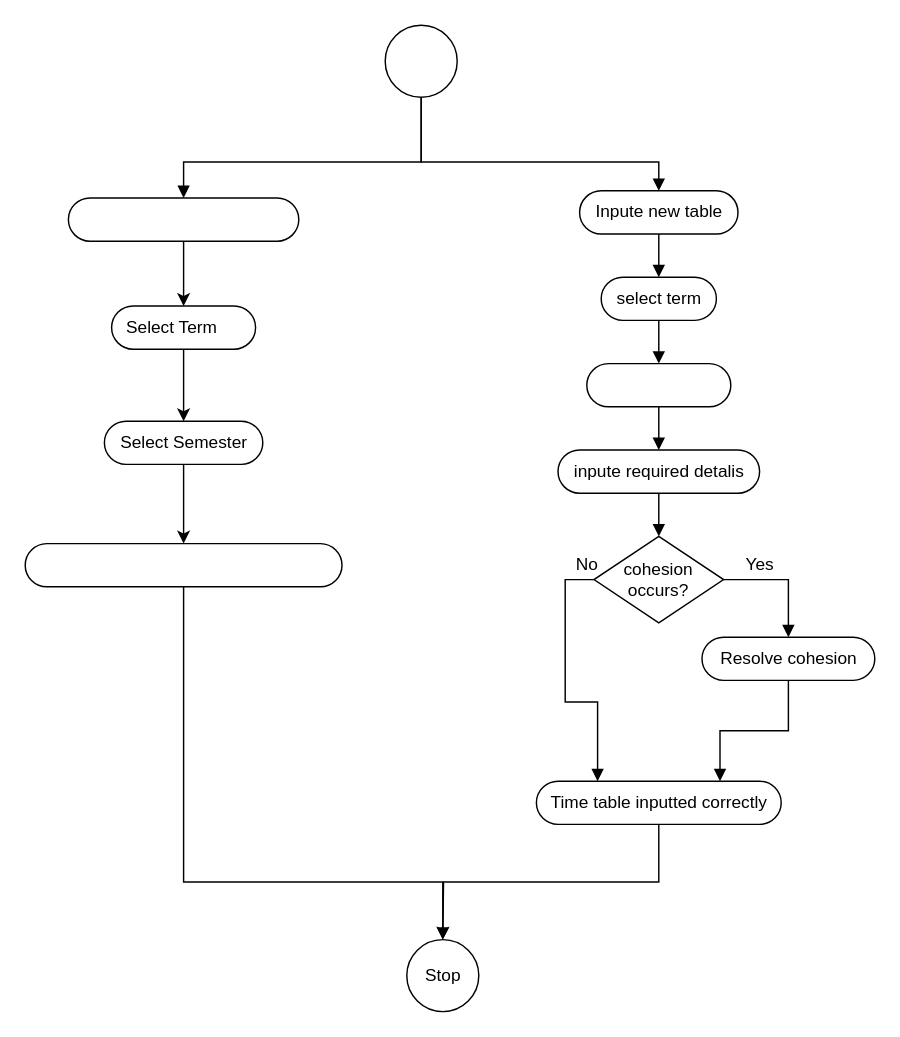
Some shapes in this 900 by 1037 pixel diagram are drawn without their labels. The box of each missing label's shape, as (x1, y1, x2, y2) in pixels:
select semster: (585, 362, 731, 407)
Show Previous timetable: (67, 197, 299, 241)
Show Timetable & Specific Time table: (24, 542, 342, 587)
Start: (384, 24, 457, 97)
